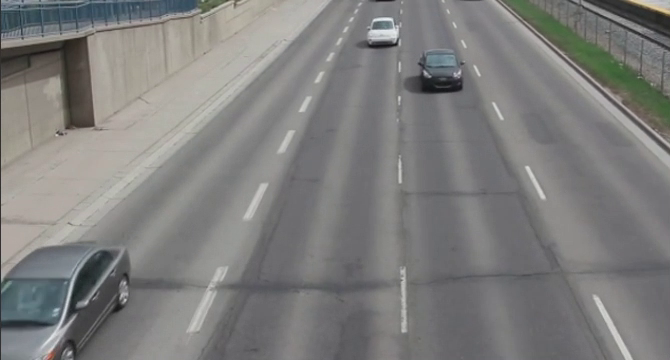car: (1, 232, 143, 359), (419, 46, 466, 93), (362, 16, 400, 50)
